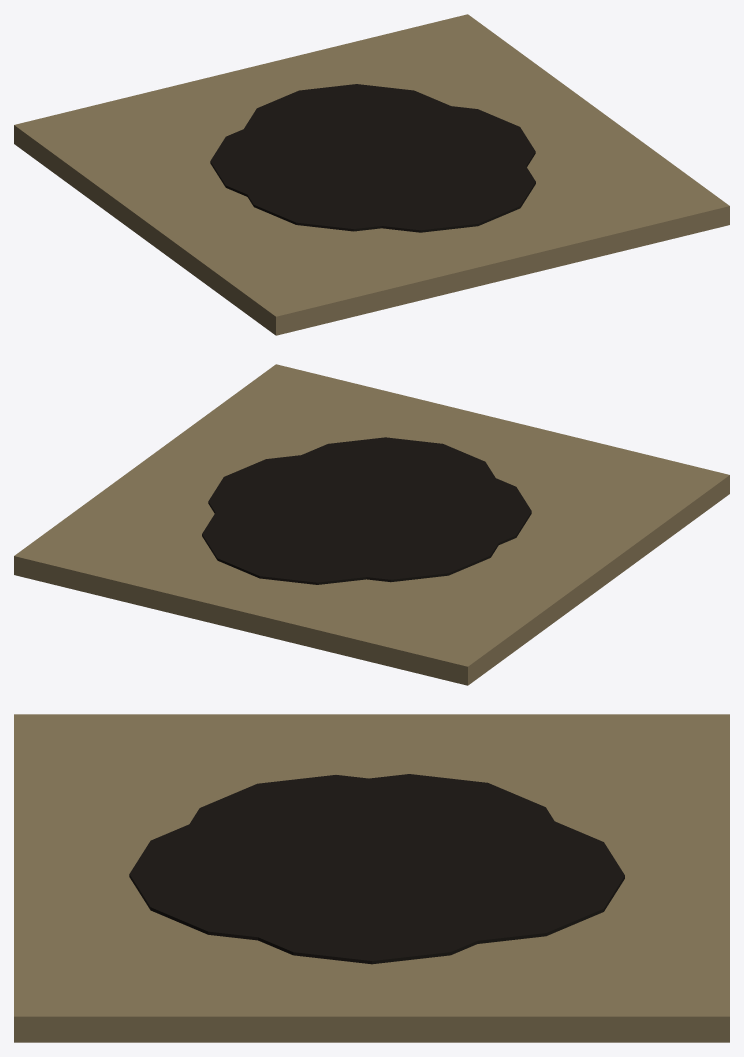
The model's file is CC_Deposit_Oil_Normal.fbx.
3 views of the same model, one above another, from view 1: azimuth 30°, elevation 25°; view 2: azimuth 150°, elevation 25°; view 3: azimuth 270°, elevation 25° (orthographic). The views are drawn at different scales.
Parts seen in each view (by area): view 1: Deposit_Oil_Normal_Body; view 2: Deposit_Oil_Normal_Body; view 3: Deposit_Oil_Normal_Body.
Boxes of the visible parts, x1,y1,x2,y2 form: Deposit_Oil_Normal_Body: (14,14,729,335); Deposit_Oil_Normal_Body: (14,364,729,685); Deposit_Oil_Normal_Body: (14,714,729,1042).
Size of the model in its own units: 1 by 0.045 by 1.
